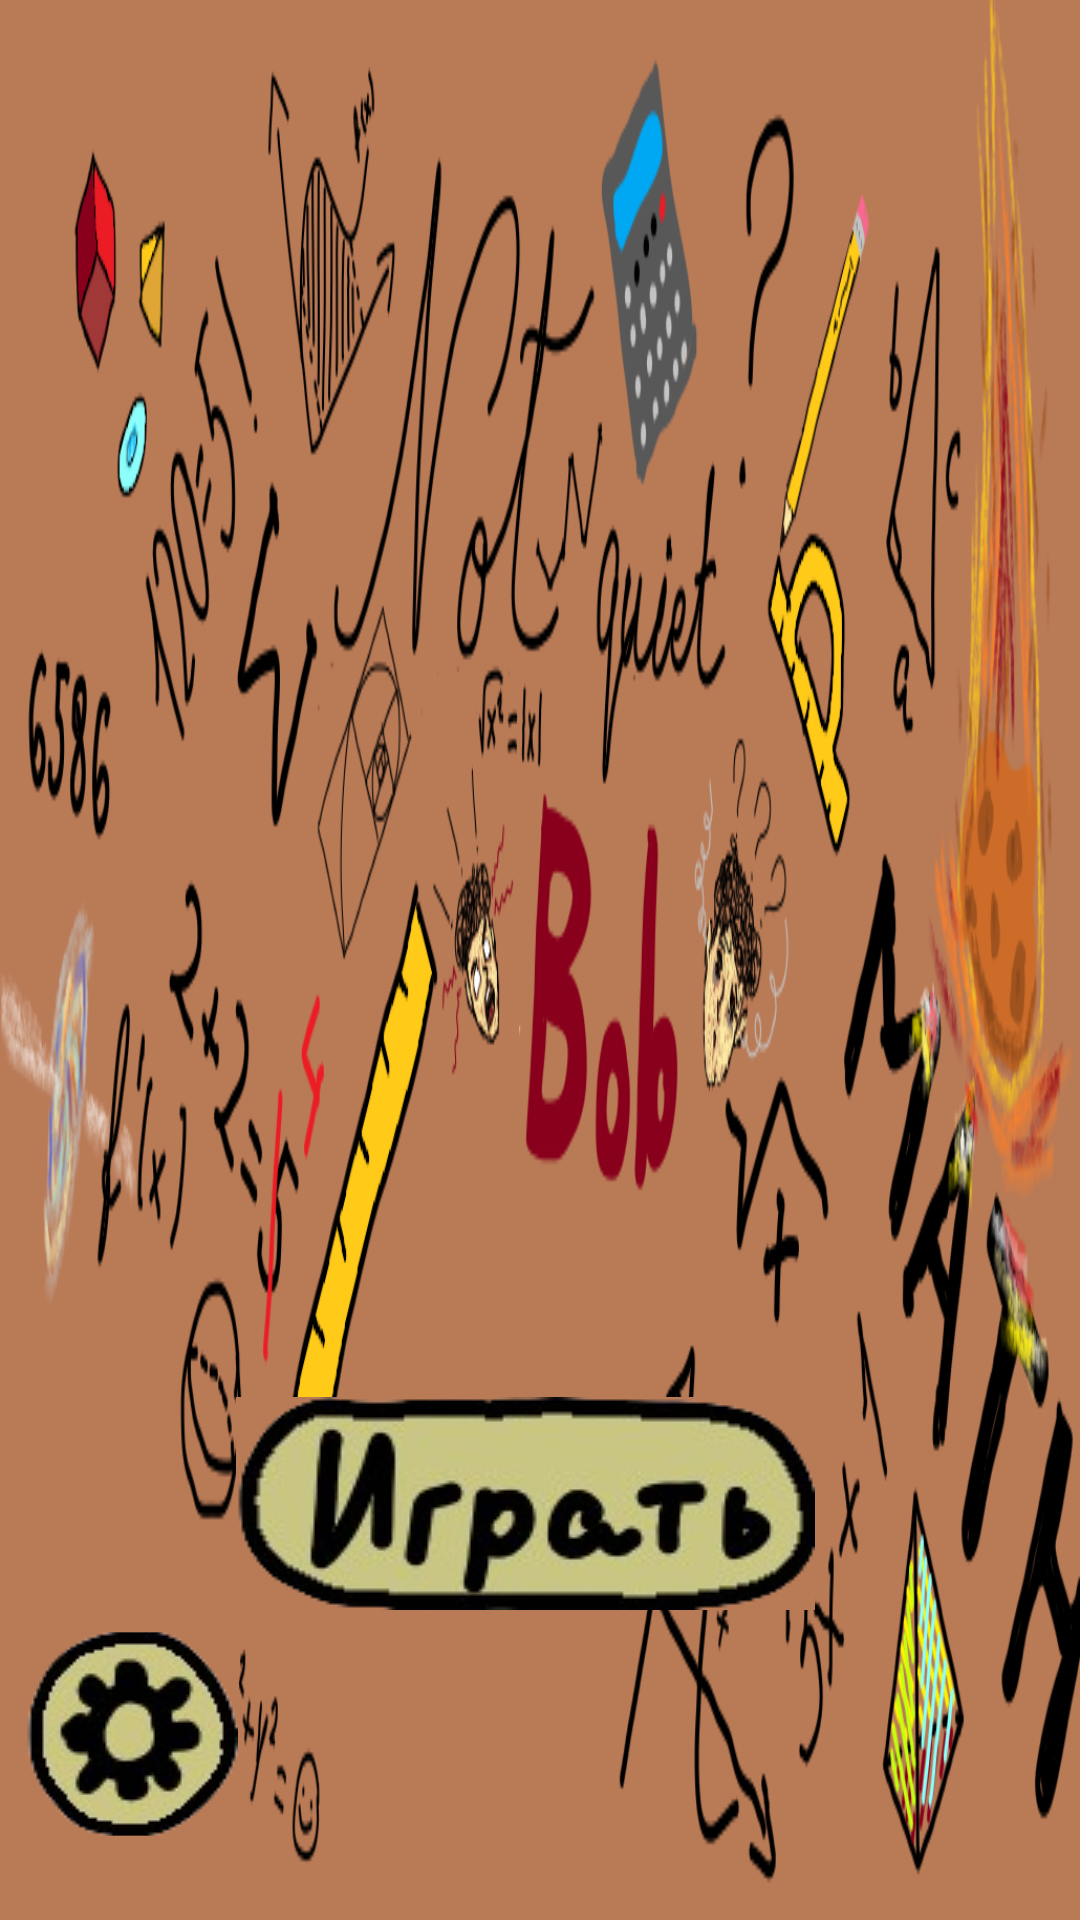

Named icons in this screenshot (1080w x 1920h) and their bounding boxes, [x1=x1, y1=y1, x2=x2, y2=y2]:
settings: [x1=28, y1=1632, x2=242, y2=1836]
